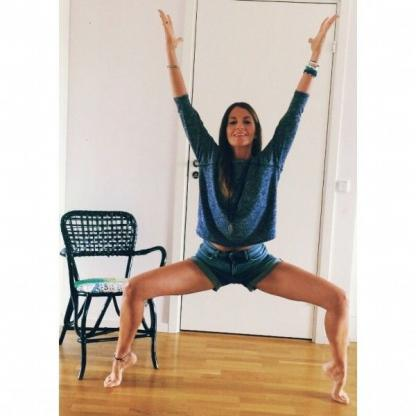godness: (94, 6, 357, 408)
